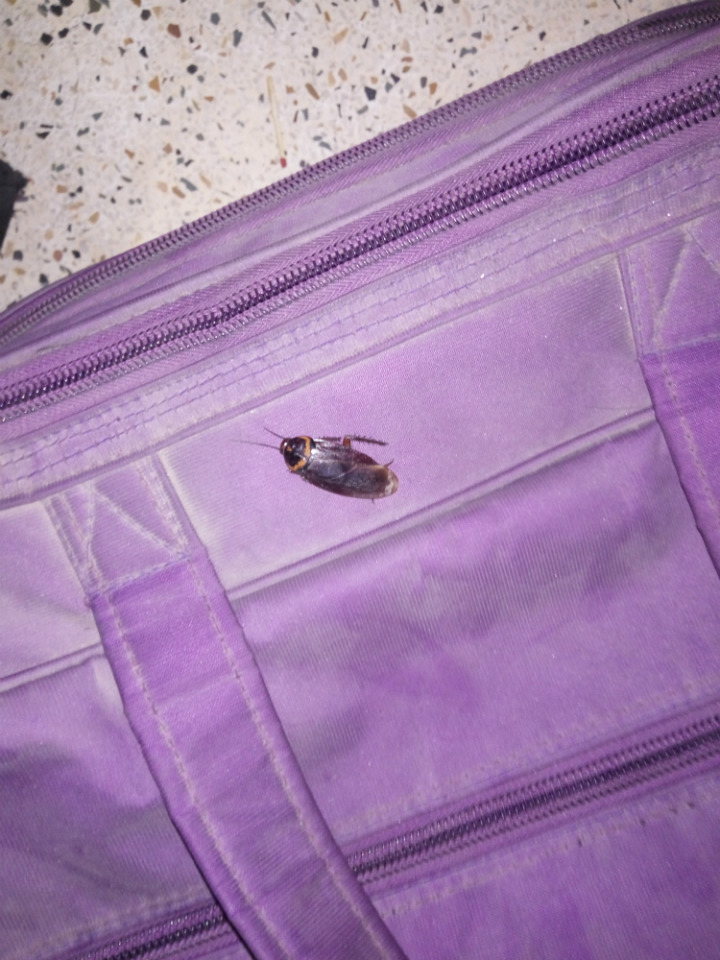cockroach: (232, 410, 413, 519)
